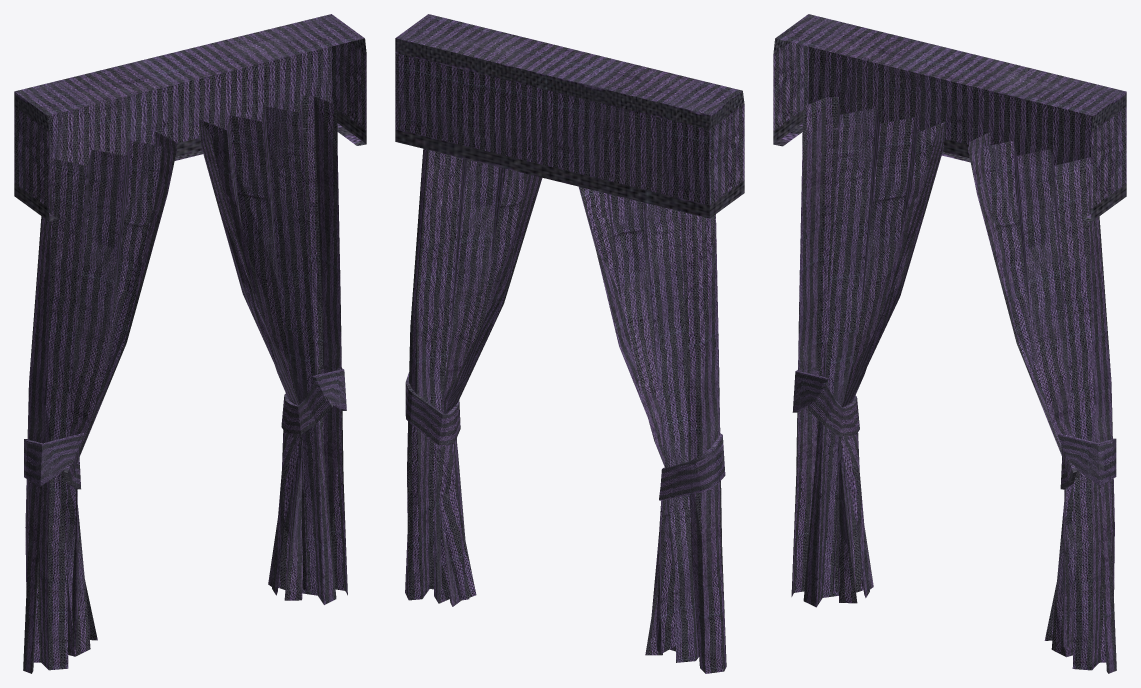
The model's file is Curtains3.fbx.
The picture shows the model from 3 angles, left to right: view 1: azimuth 30°, elevation 25°; view 2: azimuth 150°, elevation 25°; view 3: azimuth 330°, elevation 25°; orthographic projection.
Parts seen in each view (by area): view 1: Wall2WindowREG.001; view 2: Wall2WindowREG.001; view 3: Wall2WindowREG.001.
Boxes of the visible parts, bbox=[...] form: Wall2WindowREG.001: bbox=[14, 14, 366, 673]; Wall2WindowREG.001: bbox=[395, 14, 744, 673]; Wall2WindowREG.001: bbox=[773, 14, 1126, 673].
Bounding box in the file's own units: 136 × 230 × 27.91.
